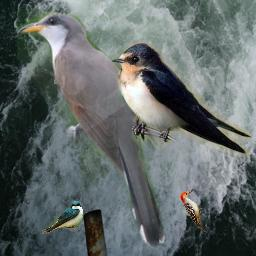Cuckoo: (17, 9, 171, 251)
Swallow: (110, 40, 252, 159), (42, 201, 84, 234)
Woodpecker: (180, 189, 207, 234)
